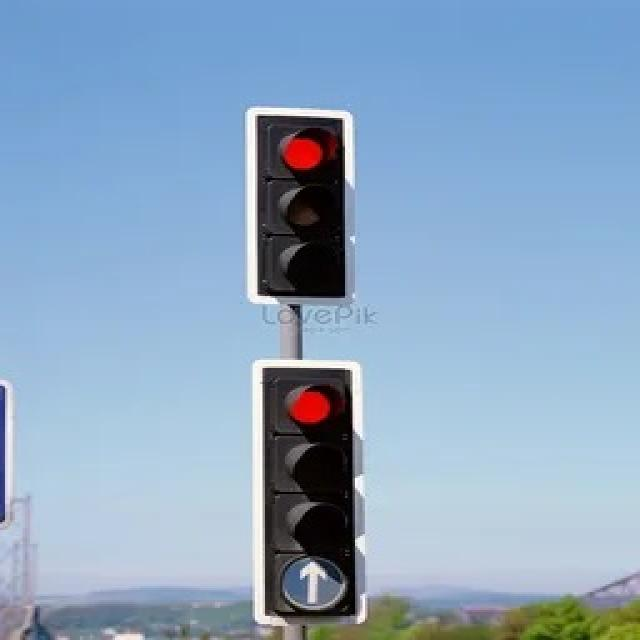kirmizi: (257, 116, 345, 297), (267, 370, 355, 551)
